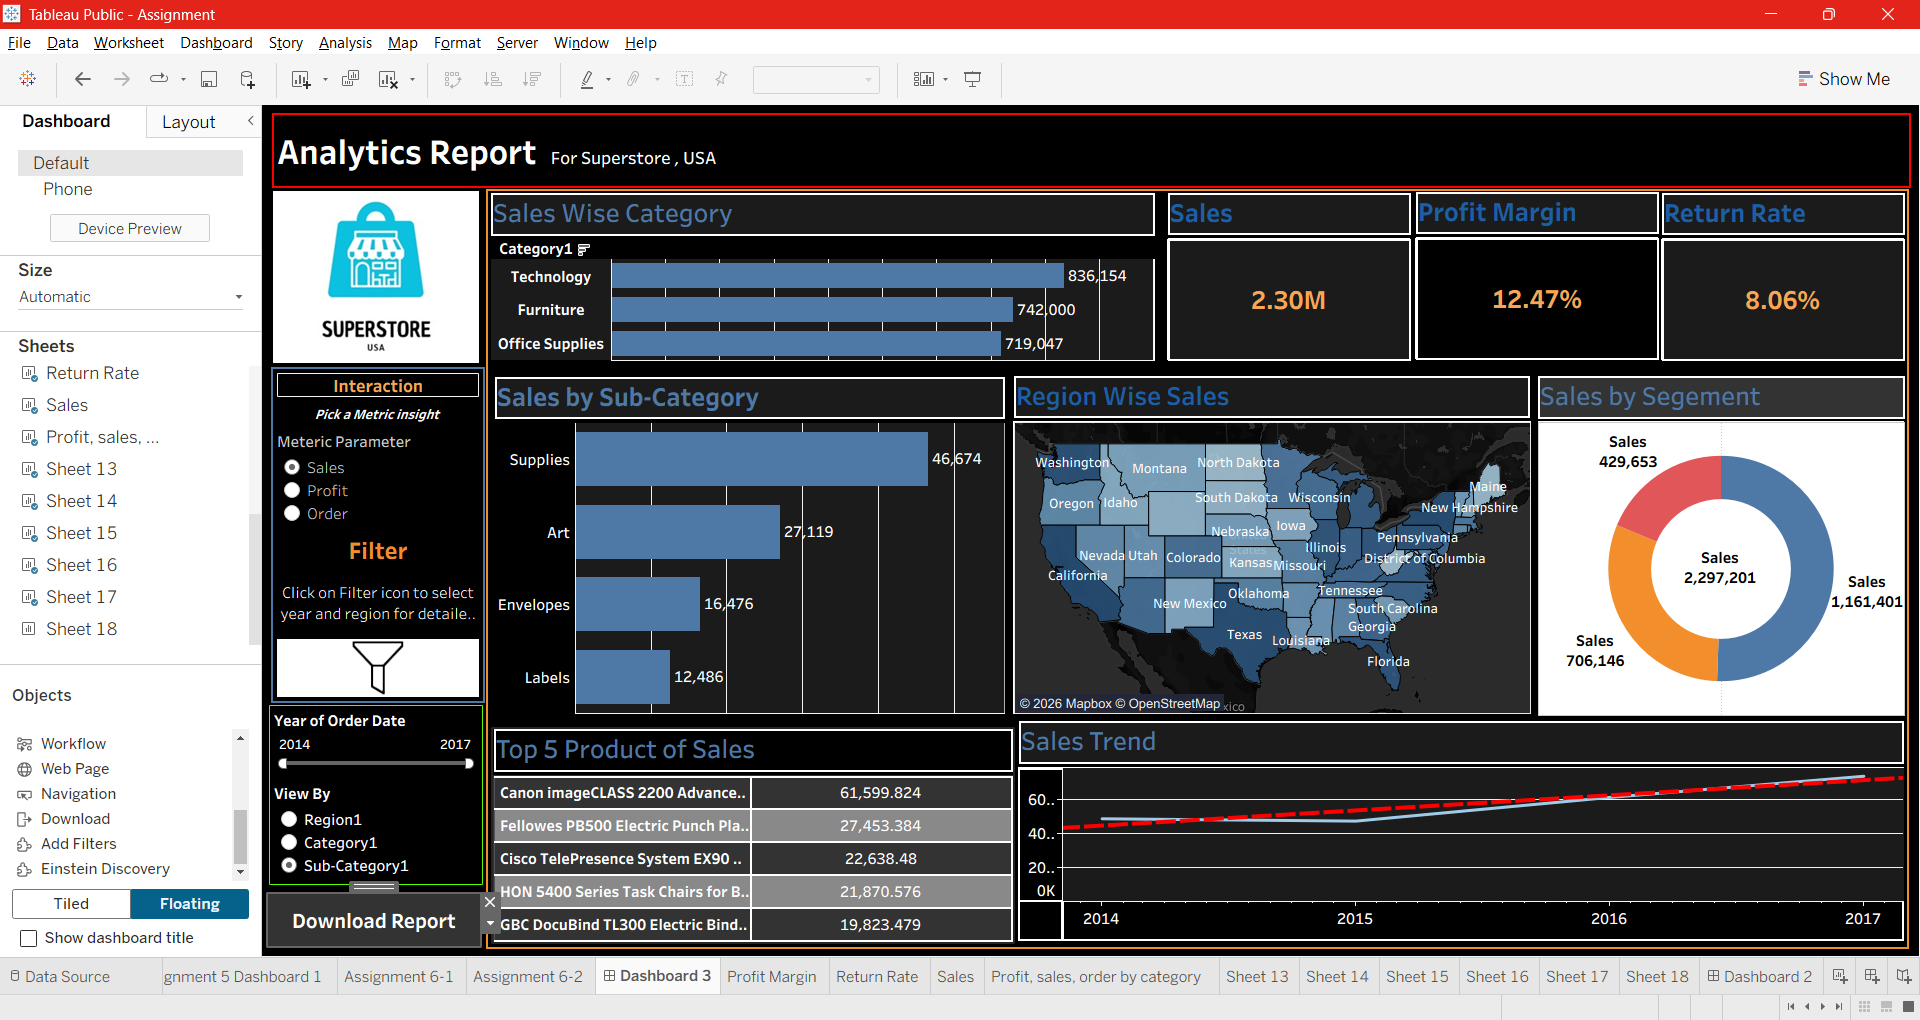

Layout of this report page (visuals, bound fields, positions):
{"tool":"tableau","page":{"name":"Dashboard ","canvas":[1000,1000],"units":"permille","ordinal":0},"visuals":[{"type":"text","box":[6,9.4,989.1,88.1]},{"type":"image","param":"Image/Picture_Tableau.jpg","box":[6.6,101.1,124.3,202.1]},{"type":"worksheet","title":"Profit Margin","mark":"Automatic","box":[695.8,102.2,147.2,197.4]},{"type":"worksheet","title":"Profit, sales, order by category","mark":"Automatic","rows":["Category"],"cols":["selected choice (copy)_1193036513087507"],"box":[138.2,103.4,400.7,197.4]},{"type":"worksheet","title":"Sales","mark":"Automatic","box":[546.2,103.4,147.2,197.4]},{"type":"worksheet","title":"Return Rate","mark":"Automatic","box":[844.3,103.4,147.2,197.4]},{"type":"text","box":[6.6,310.2,126.7,37.6]},{"type":"worksheet","title":"Region  wise Trend","mark":"Automatic","box":[453.2,318.4,312.6,397.2]},{"type":"worksheet","title":"segment pie chart","mark":"Pie","cols":["Calculation_1193036570570787","Calculation_1193036570599461"],"box":[770.1,318.4,221.5,399.5]},{"type":"worksheet","title":"profit, sales, order by Sub-category","mark":"Automatic","rows":["Sub-Category"],"cols":["selected choice (copy)_1193036513087507"],"box":[140,319.6,308.4,396]},{"type":"text","box":[6.6,347.8,126.7,30.6]},{"type":"parameter","param":"[Parameters].[Parameter 2]","box":[6.6,378.4,126.7,121]},{"type":"text","box":[6.6,499.4,126.7,38.8]},{"type":"text","box":[6.6,538.2,126.7,83.4]},{"type":"dashboard-object","box":[6.6,621.6,126.7,43.5]},{"type":"filter","title":"Month wise trend","param":"[federated.0eqxz7i10ds5pl12b4szo0oc16mv].[tyr:Order Date:qk]","box":[4.8,681.6,128,85.8]},{"type":"worksheet","title":"Month wise trend","mark":"Automatic","rows":["selected choice (copy)_1193036513087507"],"cols":["Order Date"],"box":[456.2,723.9,534.7,258.5]},{"type":"worksheet","title":"Top 5 Product ","mark":"Automatic","rows":["Product Name"],"box":[139.4,733.2,313.8,250.3]},{"type":"filter","title":"Profit, sales, order by category","param":"[federated.0eqxz7i10ds5pl12b4szo0oc16mv].[none:Region:nk]","box":[4.8,767.3,128,162.2]},{"type":"dashboard-object","box":[3.6,934.2,127.9,61.1]}]}

Visuals, with their boxes on the dashboard's canvas, which has no fixed pixel size, in thousandths of its width and height (x1, y1, x2, y2). These are canvas units, not pixel positions in the 1920x1020 screenshot, which may show the page scaled, cropped or inside an application window:
text: 6:9:995:98
image: 7:101:131:303
"Profit Margin" worksheet: 696:102:843:300
"Profit, sales, order by category" worksheet: 138:103:539:301
"Sales" worksheet: 546:103:693:301
"Return Rate" worksheet: 844:103:992:301
text: 7:310:133:348
"Region  wise Trend" worksheet: 453:318:766:716
"segment pie chart" worksheet (Pie marks): 770:318:992:718
"profit, sales, order by Sub-category" worksheet: 140:320:448:716
text: 7:348:133:378
parameter: 7:378:133:499
text: 7:499:133:538
text: 7:538:133:622
dashboard-object: 7:622:133:665
"Month wise trend" filter: 5:682:133:767
"Month wise trend" worksheet: 456:724:991:982
"Top 5 Product " worksheet: 139:733:453:984
"Profit, sales, order by category" filter: 5:767:133:930
dashboard-object: 4:934:132:995
